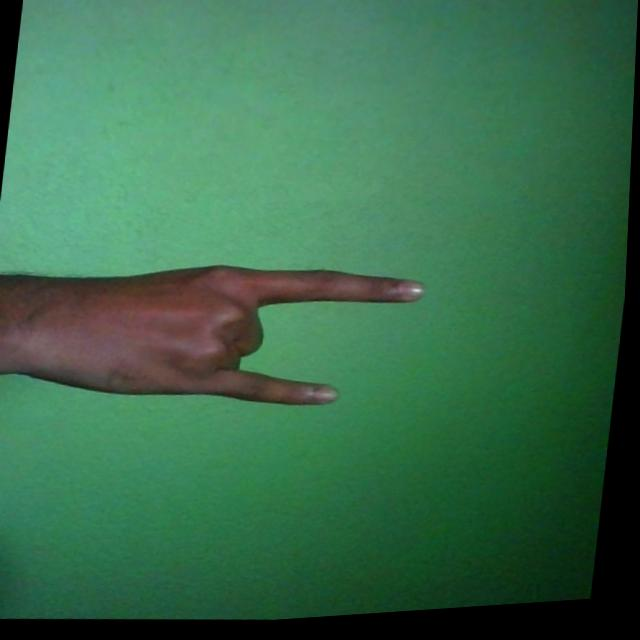Rock On: (0, 241, 433, 435)
